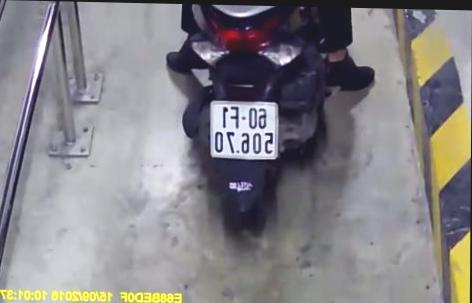License_Plate: (204, 98, 284, 166)
